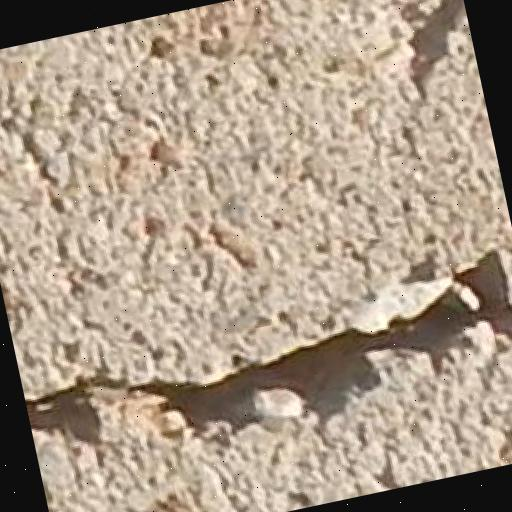spalling: (28, 225, 512, 458)
